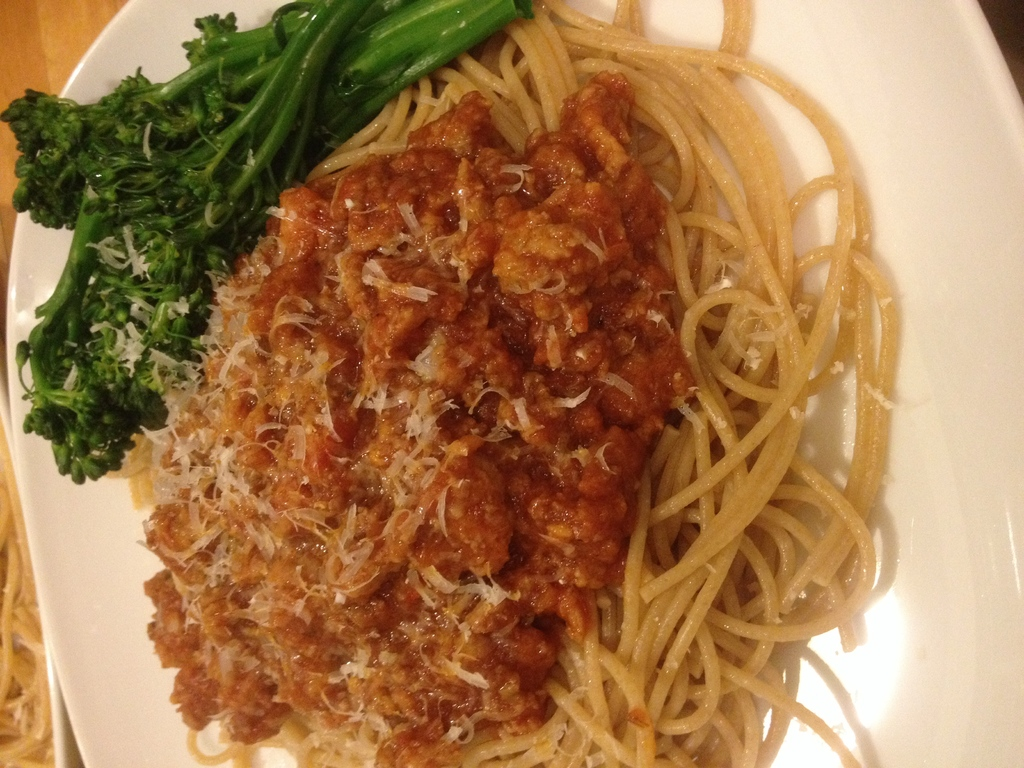pasta: (104, 13, 909, 768)
